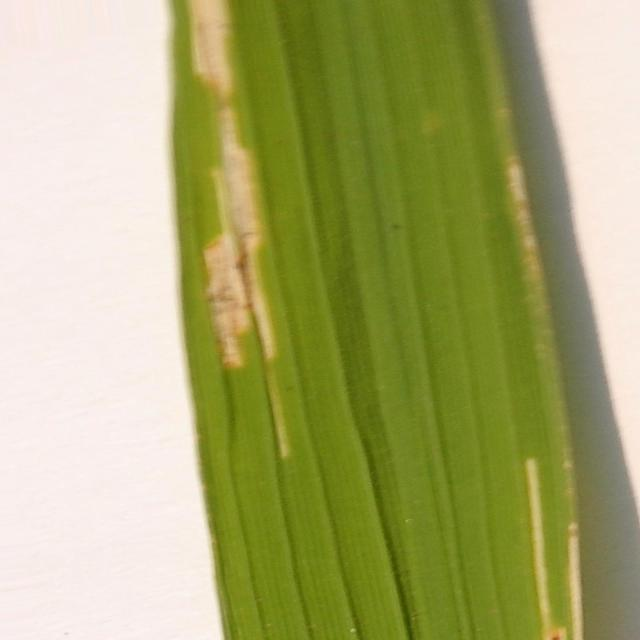Bacterial_Leaf_Blight: (189, 0, 290, 459), (525, 458, 554, 639), (568, 522, 584, 639), (506, 156, 528, 202)
